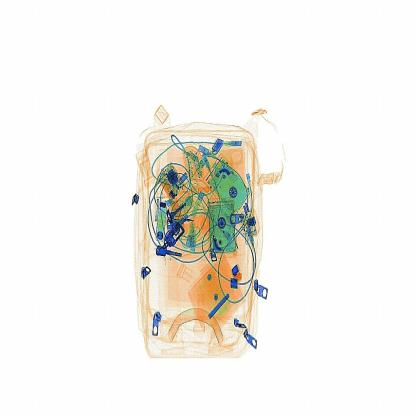wrench: (231, 262, 242, 282)
